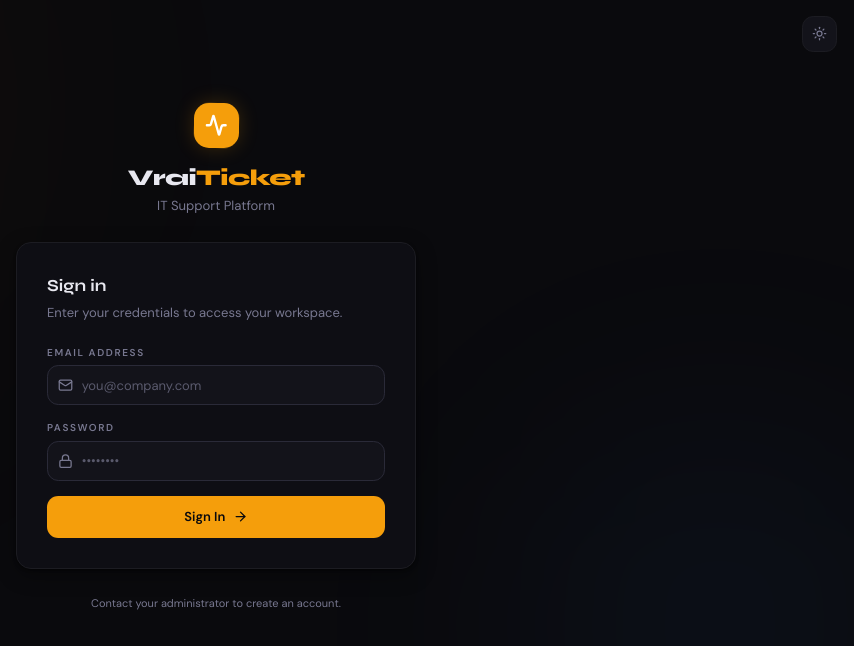
LoginPage — validation › shows both errors when form empty
This screenshot has width=854, height=646.
Click the button "Sign In": (216, 517) 47,496 -> 385,538
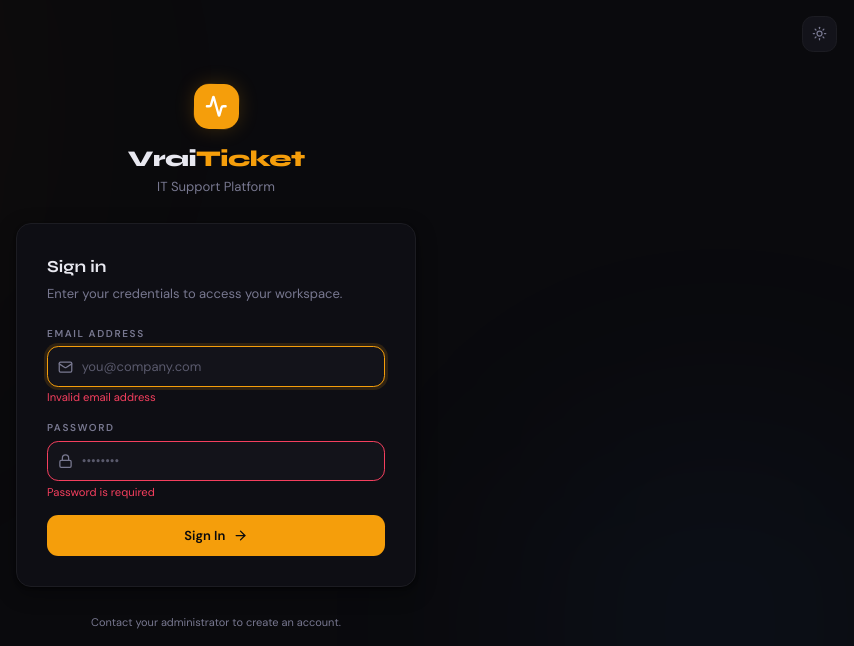
Expected: the text "Invalid email address" is shown, 47,390 -> 156,404
Expected: the text "Password is required" is shown, 47,485 -> 155,499
